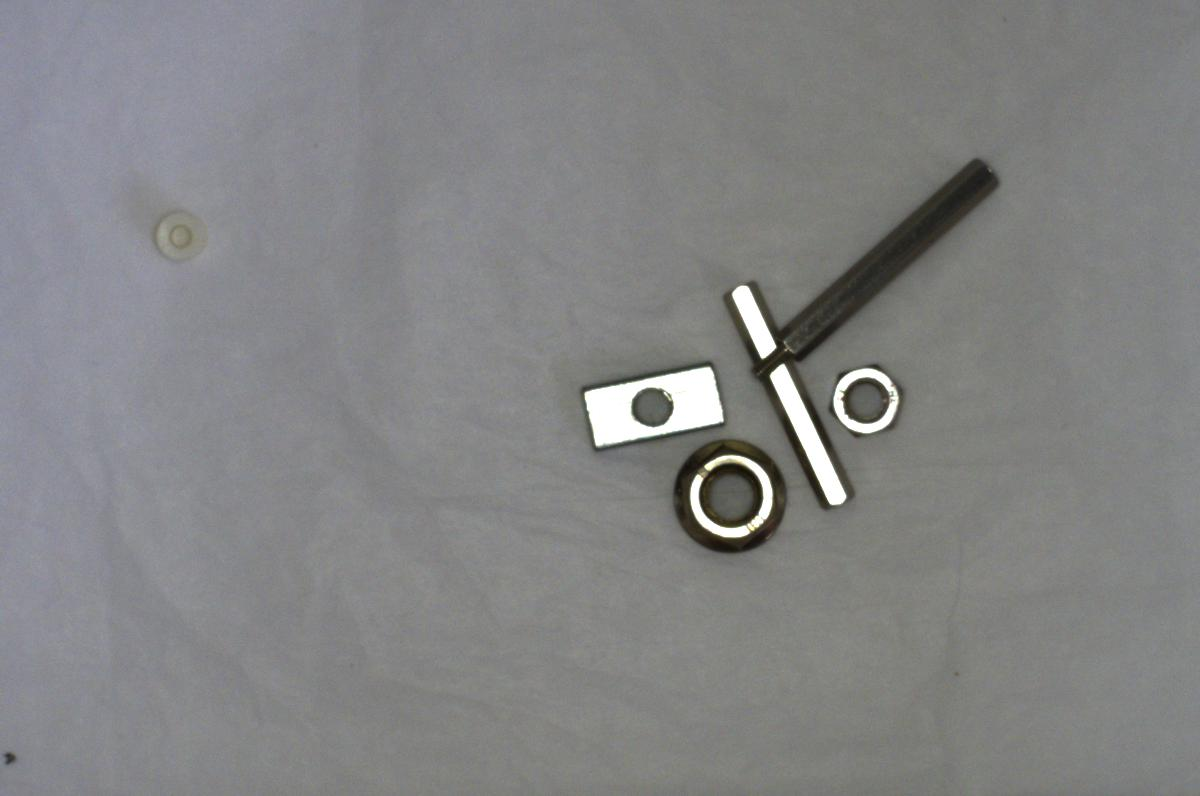Flange nut: (671, 427, 793, 560)
Hexagon nut: (825, 354, 906, 447)
Hexagonal steel column: (747, 158, 1002, 383)
Plastic cushion pillar: (142, 207, 205, 267)
Rectangular nut: (570, 359, 731, 448)
Spring washer: (719, 273, 853, 514)
